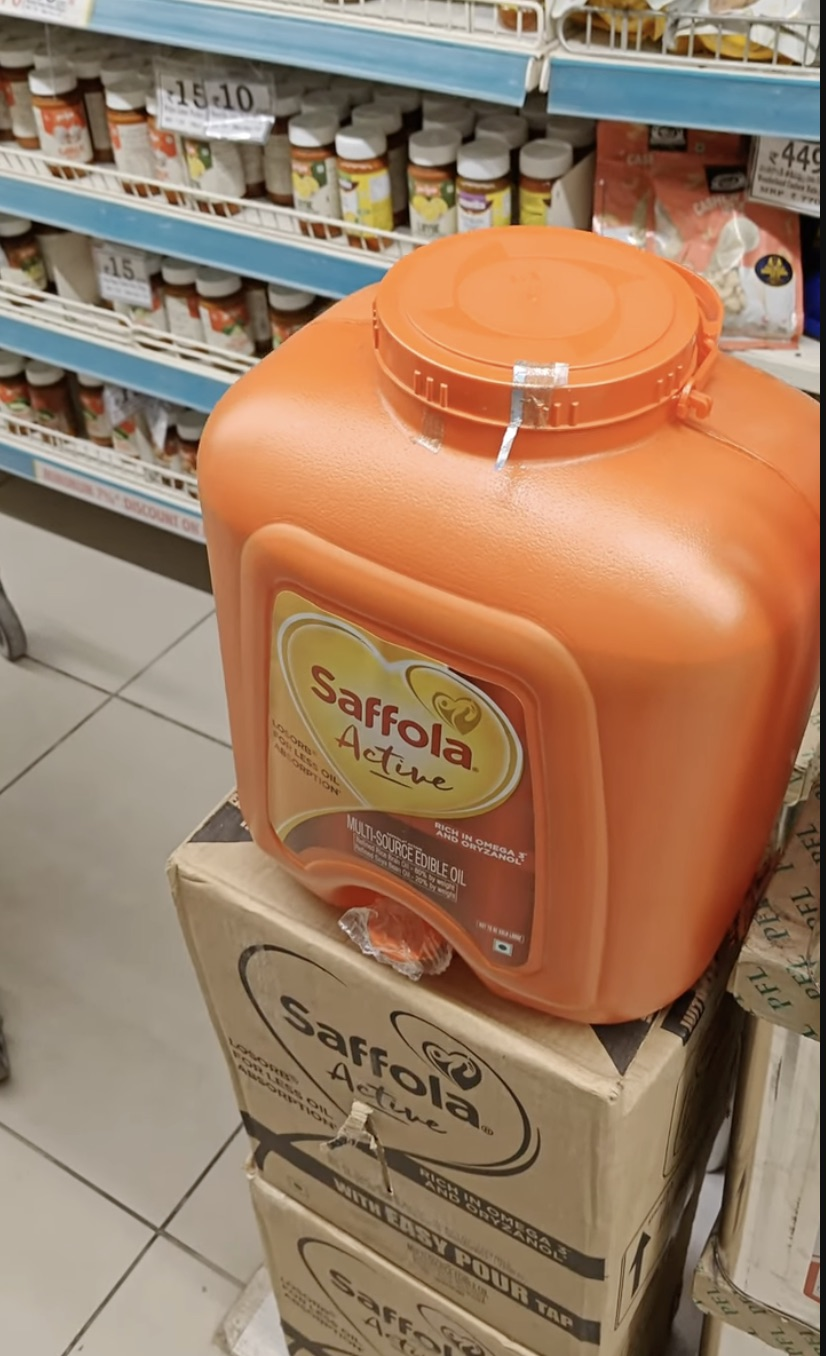saffola: (200, 227, 820, 1022)
